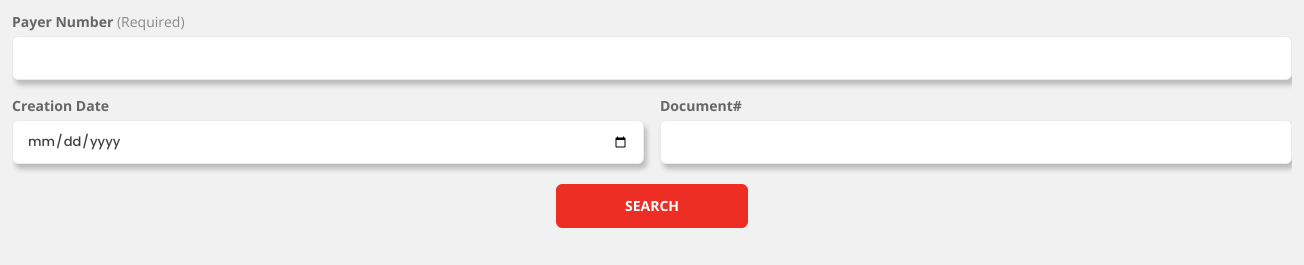
Test: SearchForm exclusive fields › locks the document number once a creation date is entered
The width and height of the screenshot is (1304, 265).
Type "2025-06-02" into the date field labelled "Creation Date" at [328, 142], box x1=12 y1=120 x2=644 y2=164
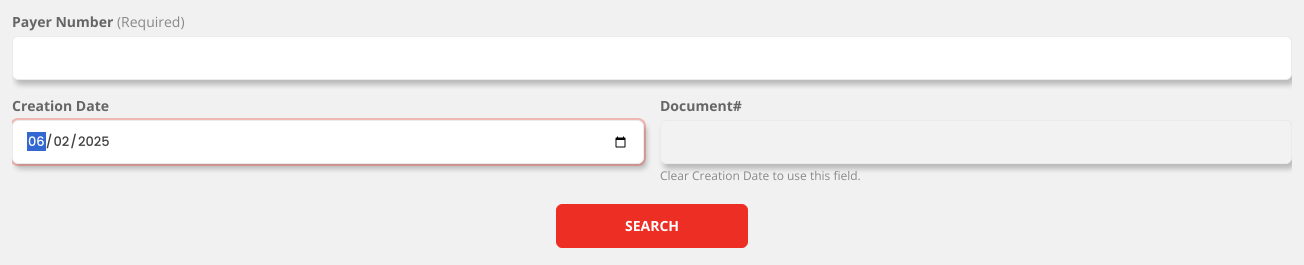
Check: the field labelled "Document#" is disabled, box x1=660 y1=120 x2=1292 y2=164
Check: the text "Clear Creation Date to use this field." is shown, box x1=660 y1=167 x2=861 y2=184
